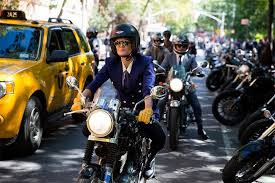helmet: (105, 24, 148, 58), (171, 35, 192, 56)
